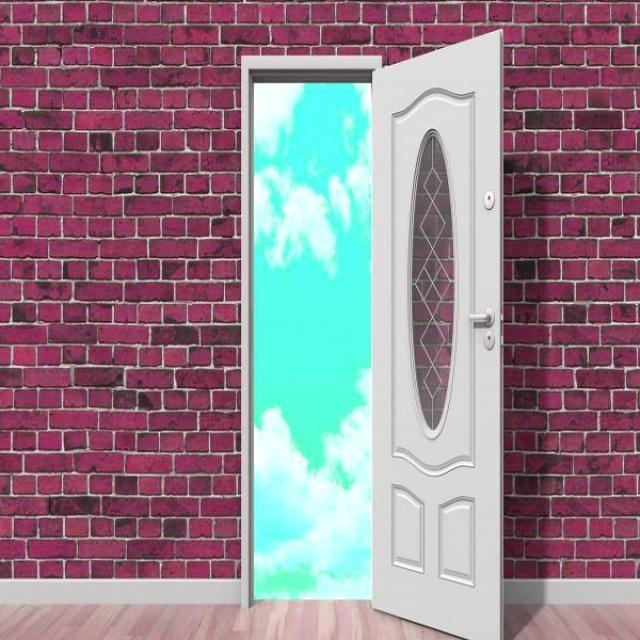door: (369, 27, 504, 639)
